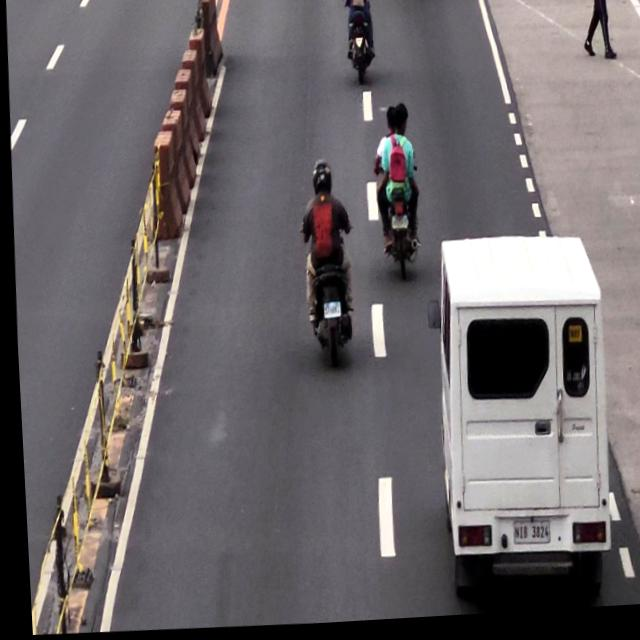Car: (427, 233, 609, 587)
License-Plate: (505, 518, 545, 551), (319, 305, 338, 325), (387, 220, 407, 233)
Motorcycle: (294, 165, 352, 369), (372, 105, 419, 278), (345, 0, 376, 86)
